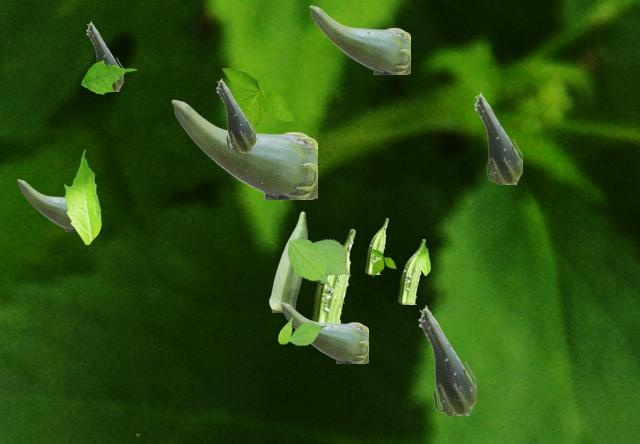okra: (171, 99, 316, 198), (309, 5, 409, 73), (418, 305, 475, 414), (280, 302, 367, 362), (474, 92, 521, 183), (311, 229, 354, 322), (269, 211, 306, 311), (17, 179, 74, 230), (216, 78, 254, 151), (86, 21, 122, 90), (398, 239, 424, 303), (365, 218, 387, 273)
